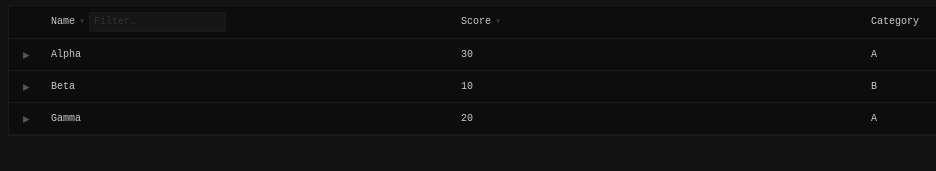
Scenario: DataGrid row expansion › expands and collapses rows
# Click to expand
Step 1. Click the button named "Expand row" → [26, 54], box [19,45,34,64]
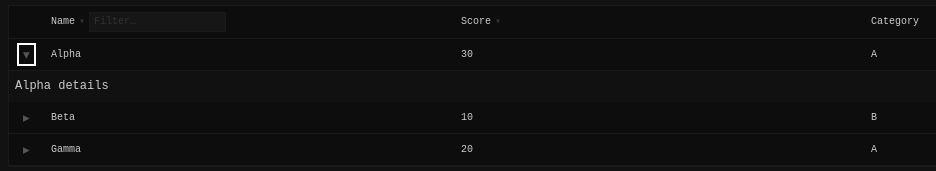
Result: the text with test id "expanded" reads "Alpha details" at [15,79,109,93]
Result: the button named "Expand row" is expanded
# Click again to collapse
Step 2. Click the button named "Expand row" → [26, 54], box [19,45,34,64]
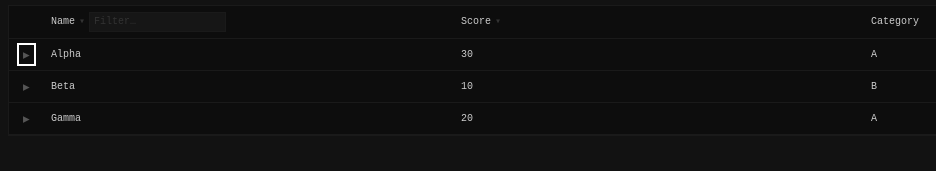
Result: the text with test id "expanded" is gone
